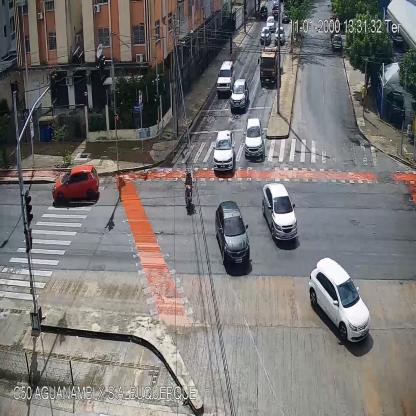car: (310, 257, 371, 342), (216, 199, 249, 271), (262, 182, 298, 245), (52, 165, 99, 205), (243, 116, 265, 163), (213, 131, 235, 171), (231, 78, 248, 112), (218, 62, 234, 91), (275, 26, 285, 46), (260, 27, 270, 43), (333, 34, 341, 50), (266, 15, 274, 30), (273, 6, 279, 22), (282, 12, 290, 23), (259, 6, 266, 18)
motorbike: (184, 172, 193, 212)
person: (361, 86, 367, 112)
truck: (258, 47, 279, 88)
